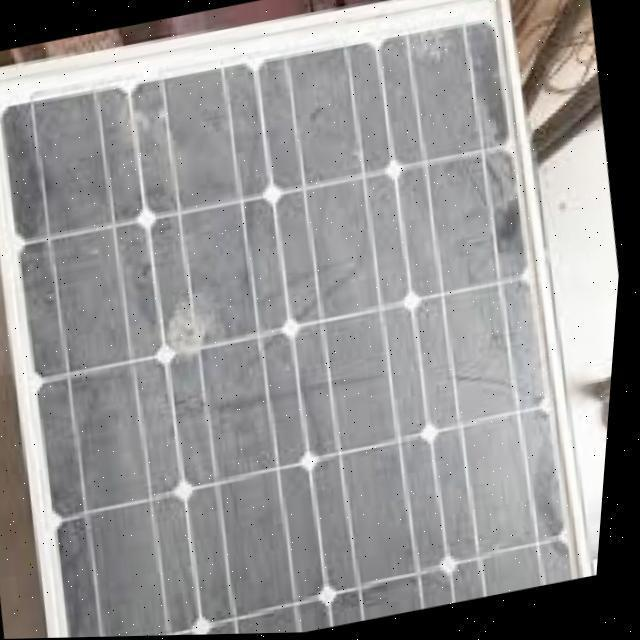Anomaly Solar Panel: (0, 5, 596, 638)
Surface Contaminant: (0, 16, 603, 640)
